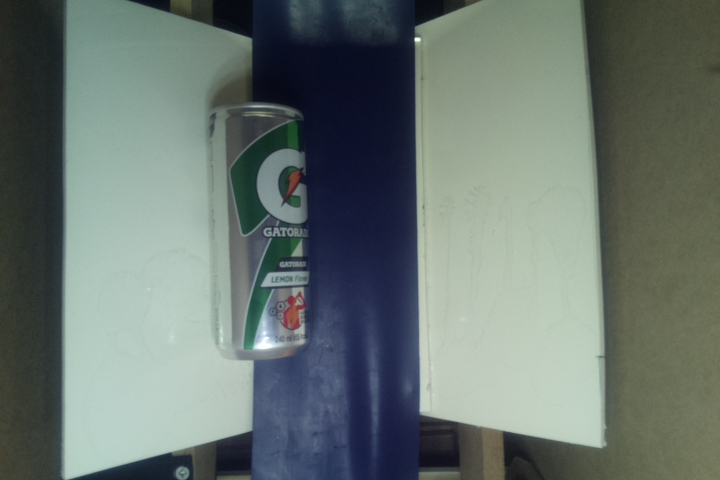can: (205, 103, 315, 361)
